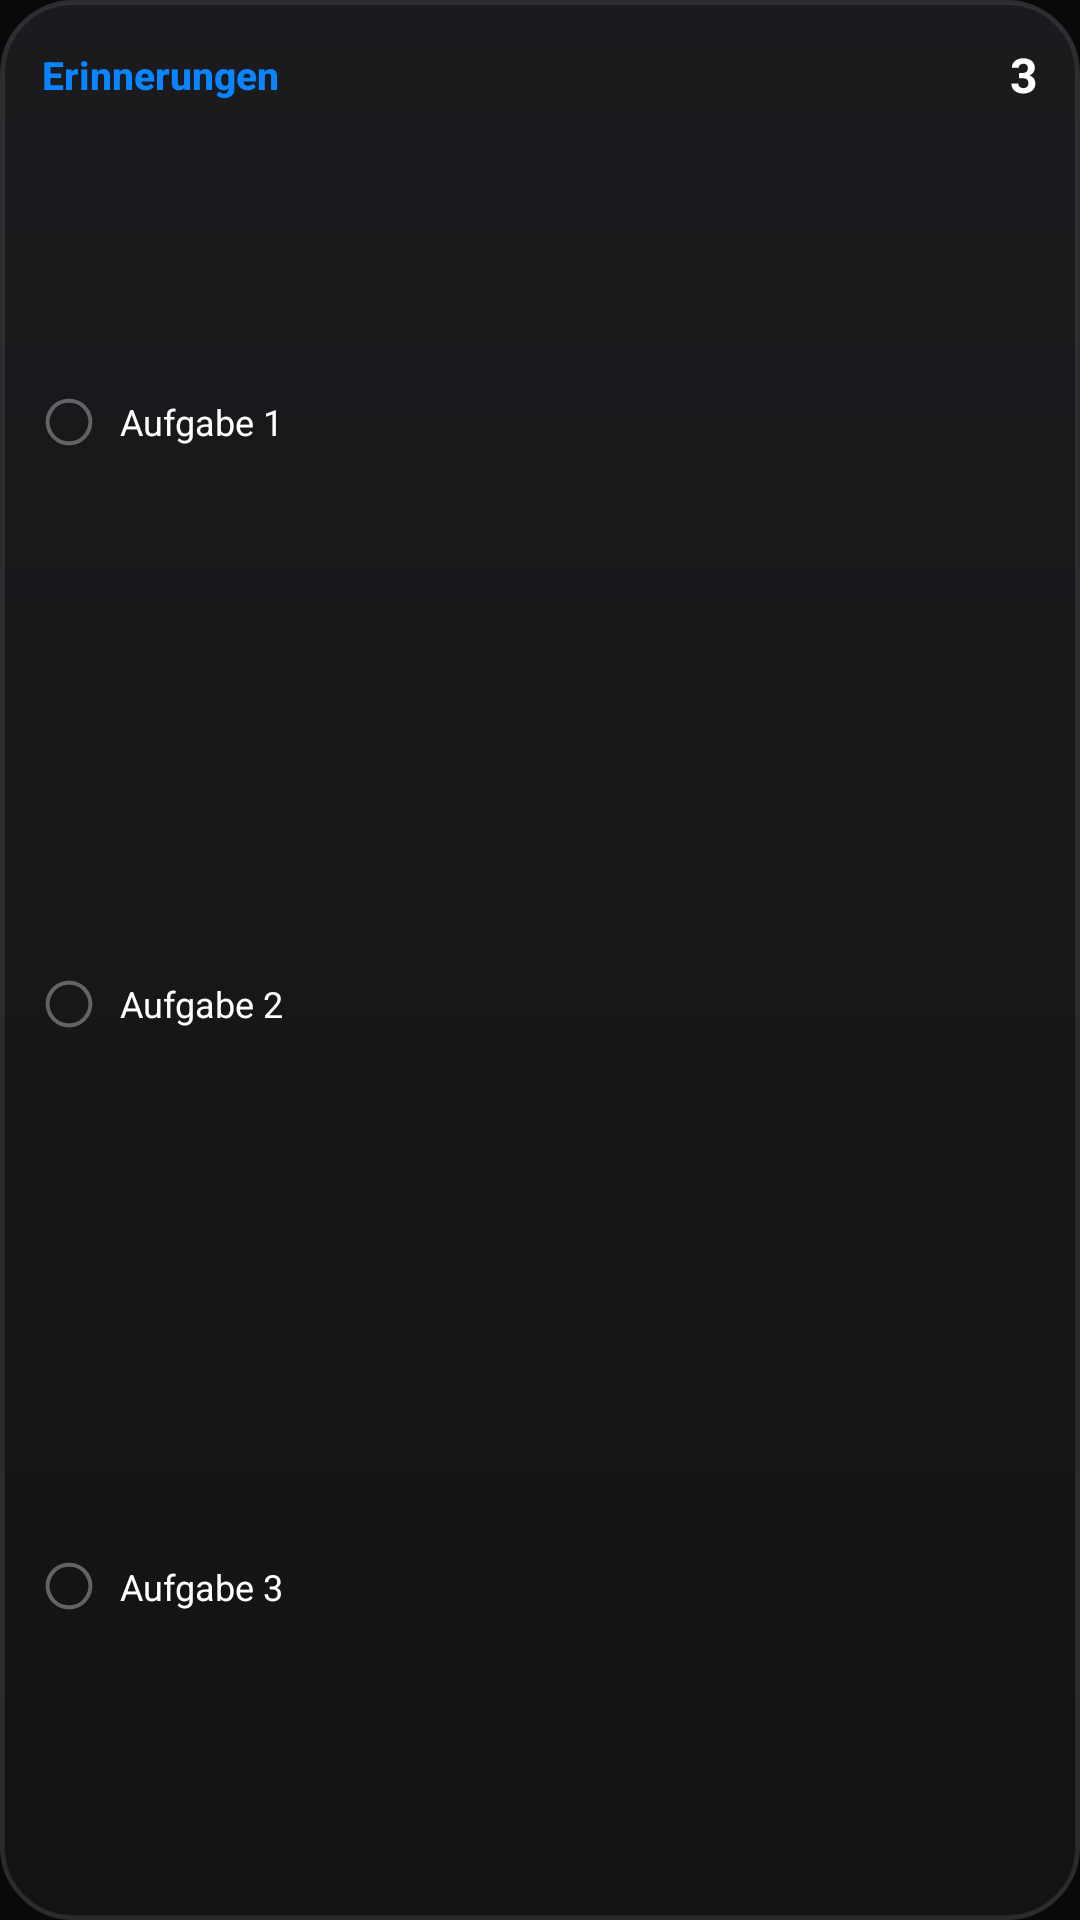

Screen size 1080w x 1920h. Icon name, then its center in pixels as [x,y]:
check todo: [68,422], [68,1004], [68,1586]
